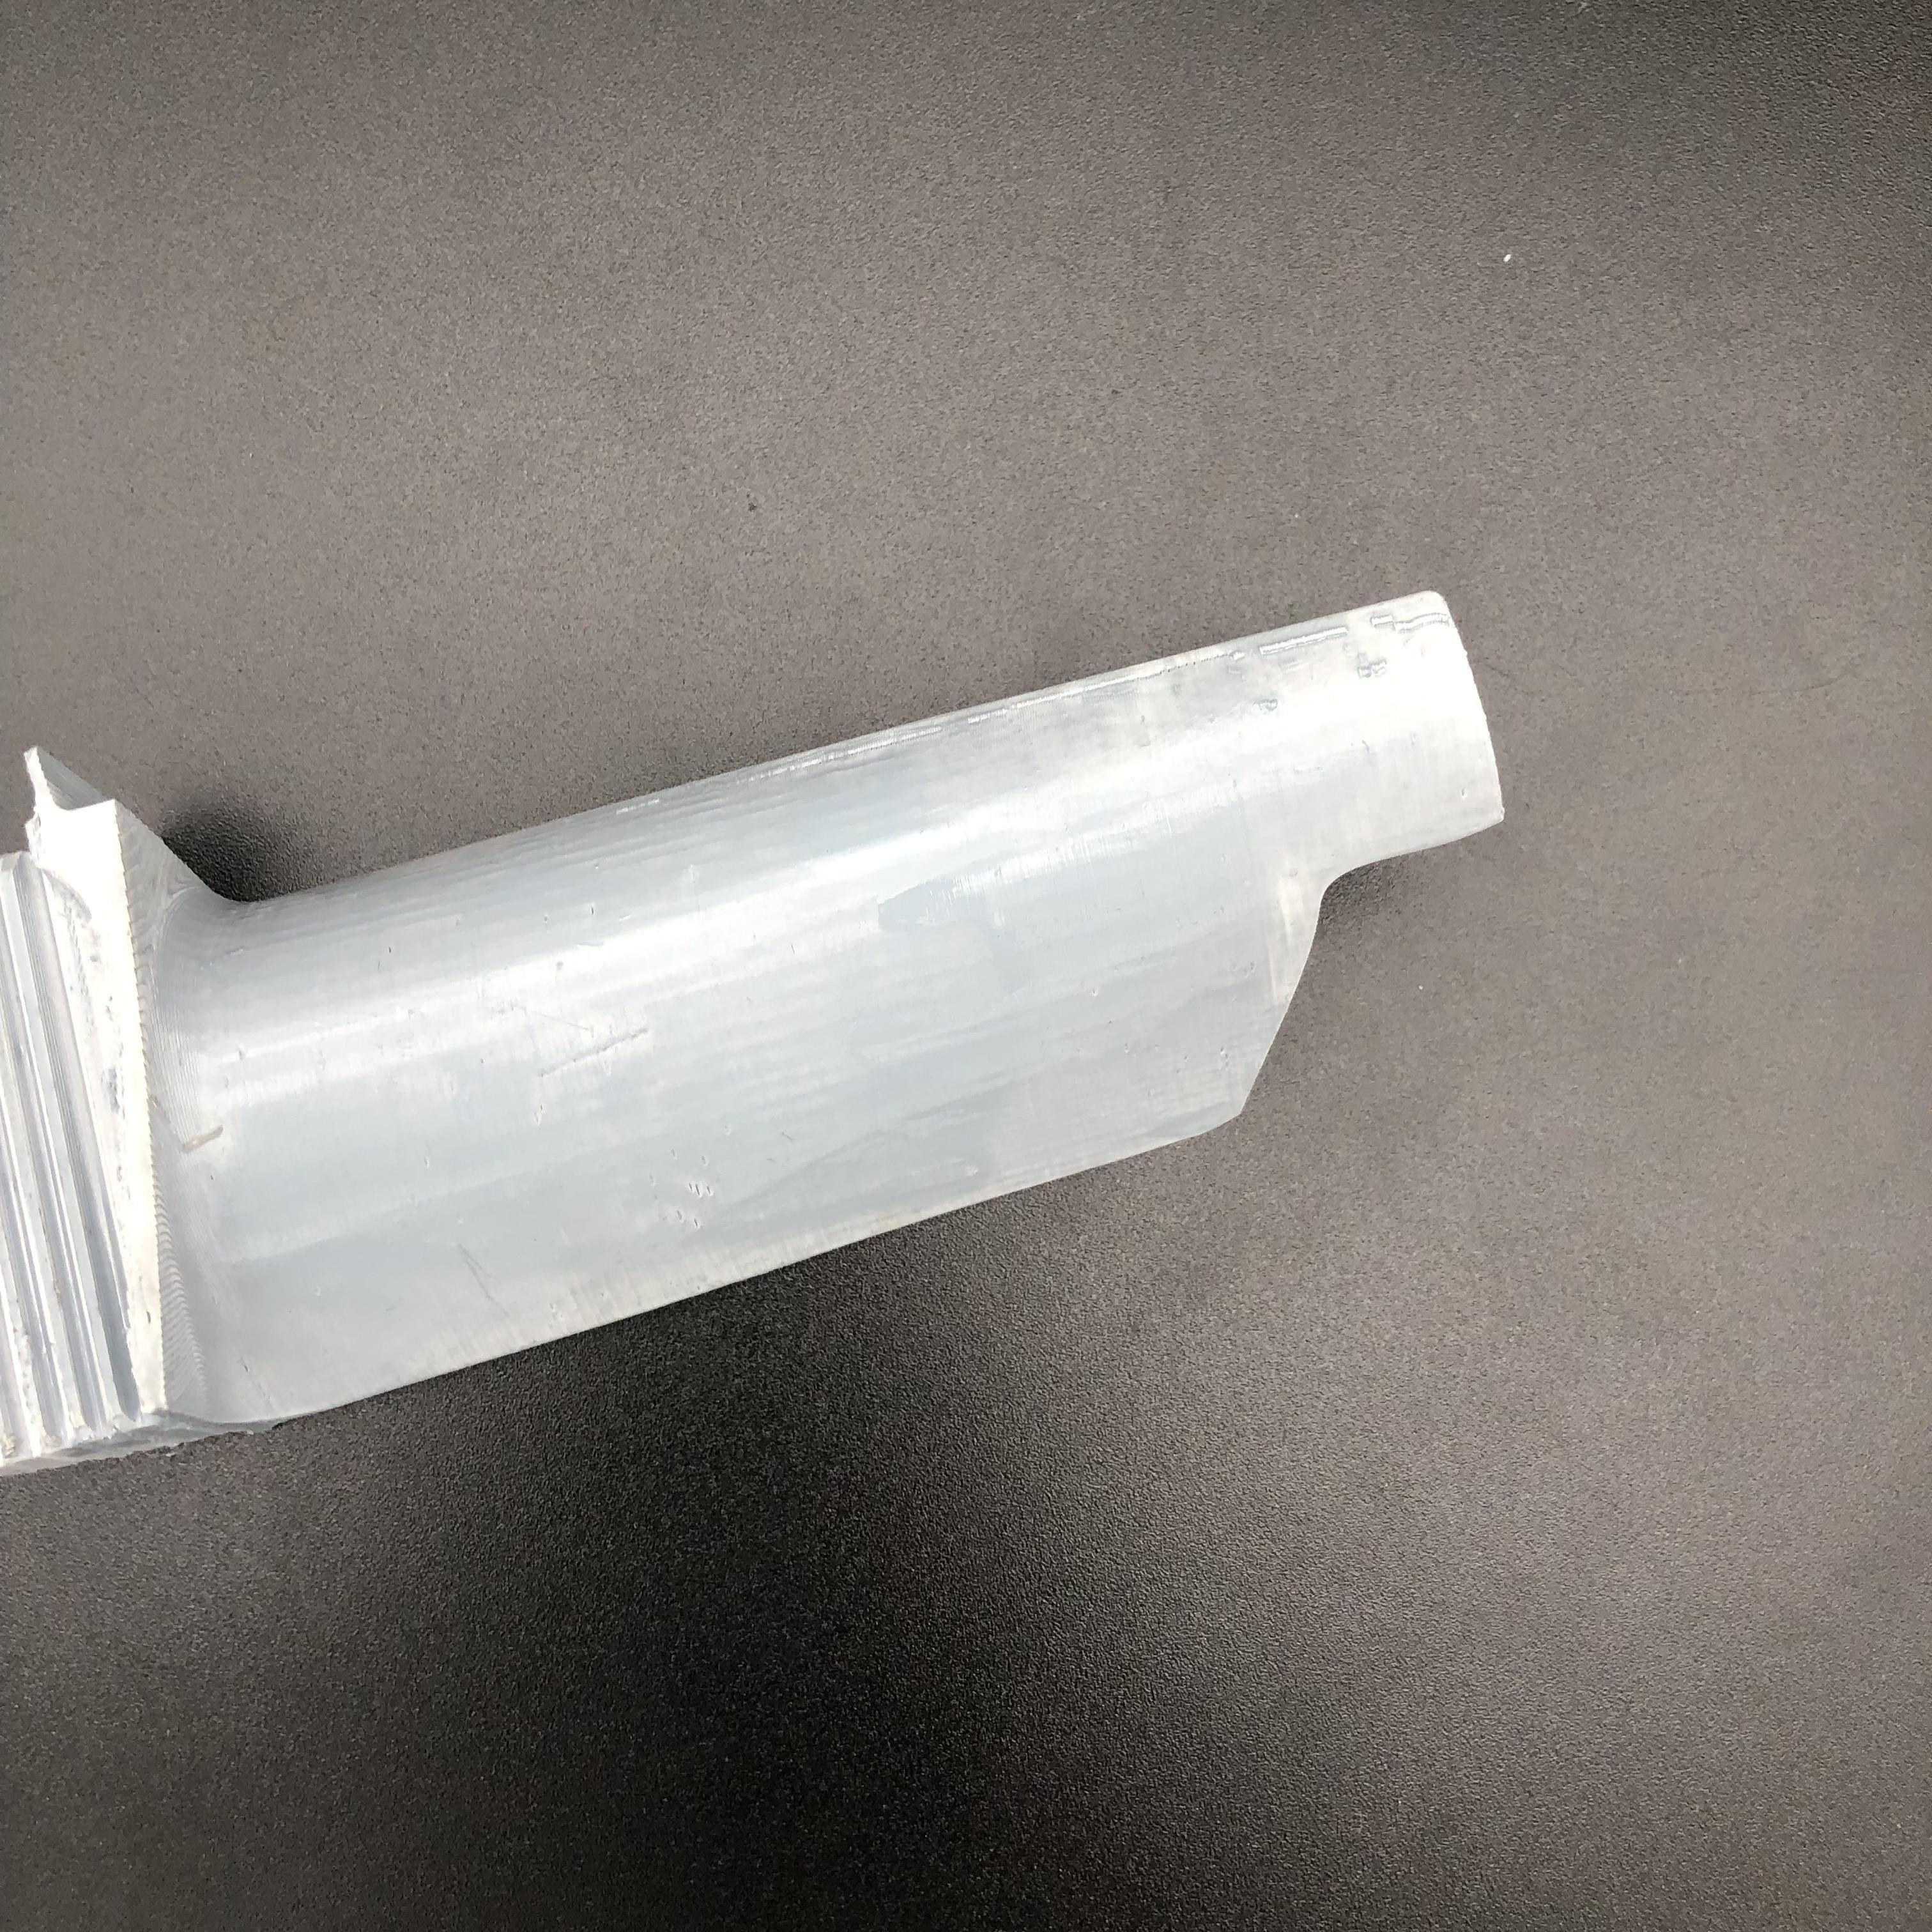fracture: (1247, 828, 1495, 1108)
